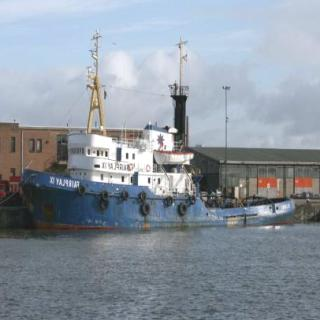Tug Boat: (7, 32, 296, 228)
